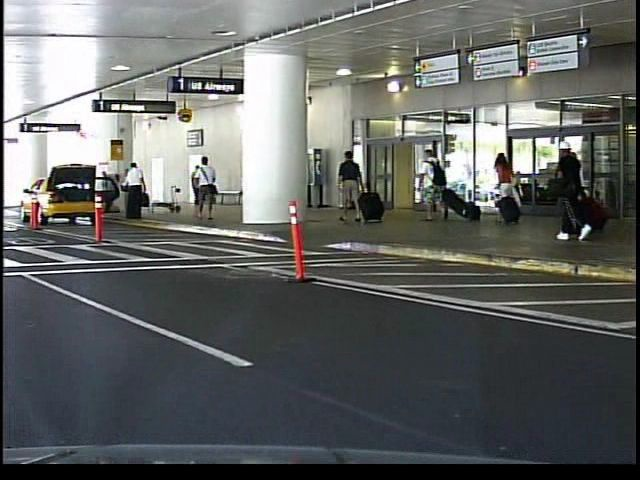person: (545, 129, 593, 241), (489, 144, 524, 229), (415, 142, 452, 222), (336, 143, 366, 226), (195, 154, 227, 227), (193, 163, 199, 211)
